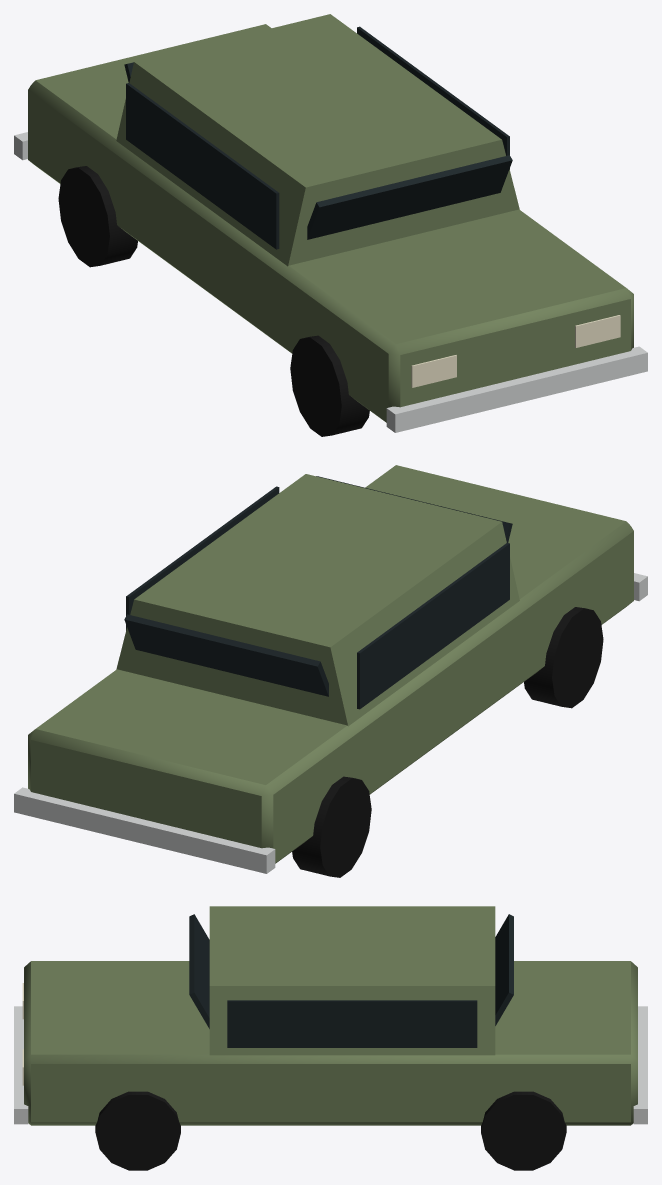
Rendered from old_car.glb.
The picture shows the model from 3 angles, top to bottom: view 1: azimuth 30°, elevation 25°; view 2: azimuth 150°, elevation 25°; view 3: azimuth 270°, elevation 25°; orthographic projection. The views are drawn at different scales.
Visible parts, largest first — view 1: OldCar; view 2: OldCar; view 3: OldCar.
Boxes of the visible parts, <box> form: OldCar: <box>14,14,647,436</box>; OldCar: <box>14,465,647,877</box>; OldCar: <box>14,906,647,1170</box>.
Bounding box in the file's own units: 1.76 × 1.32 × 4.44.
